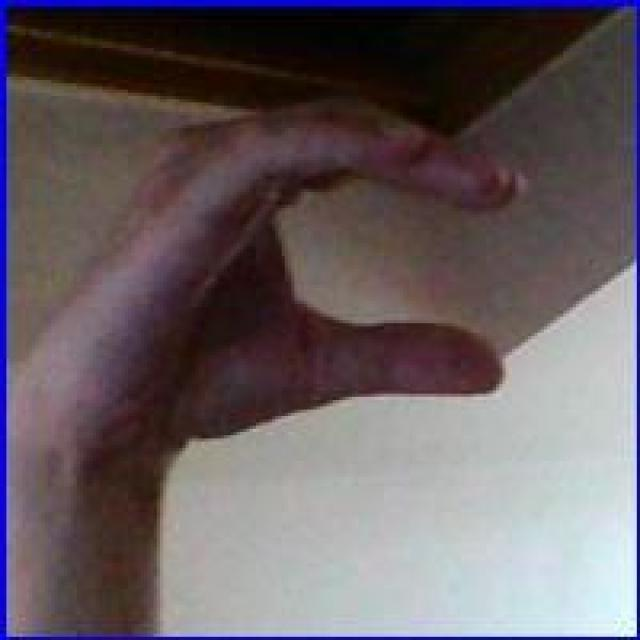C: (45, 93, 531, 445)
